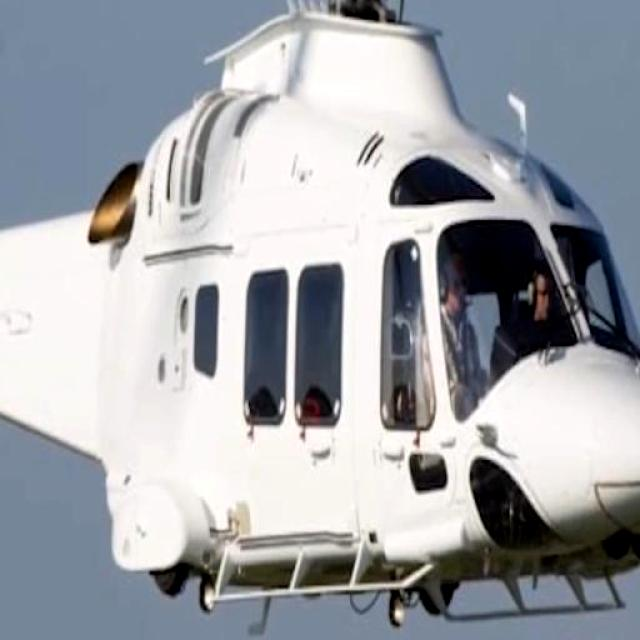drone: (0, 0, 640, 618)
